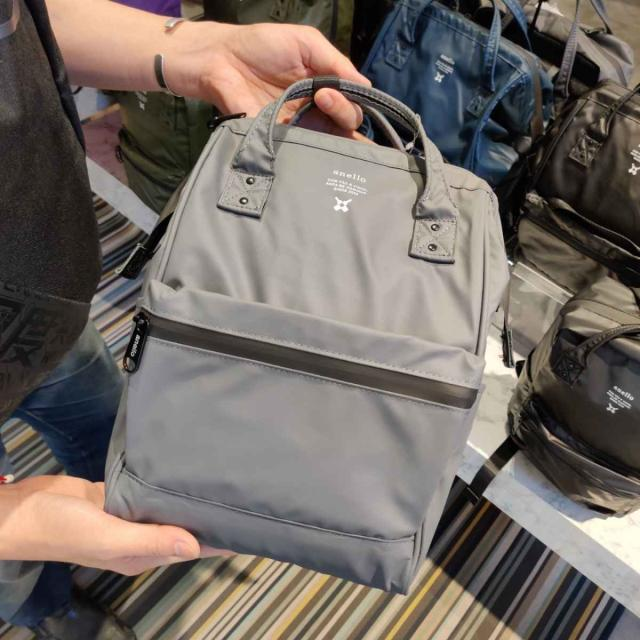handbag: (103, 76, 506, 598)
